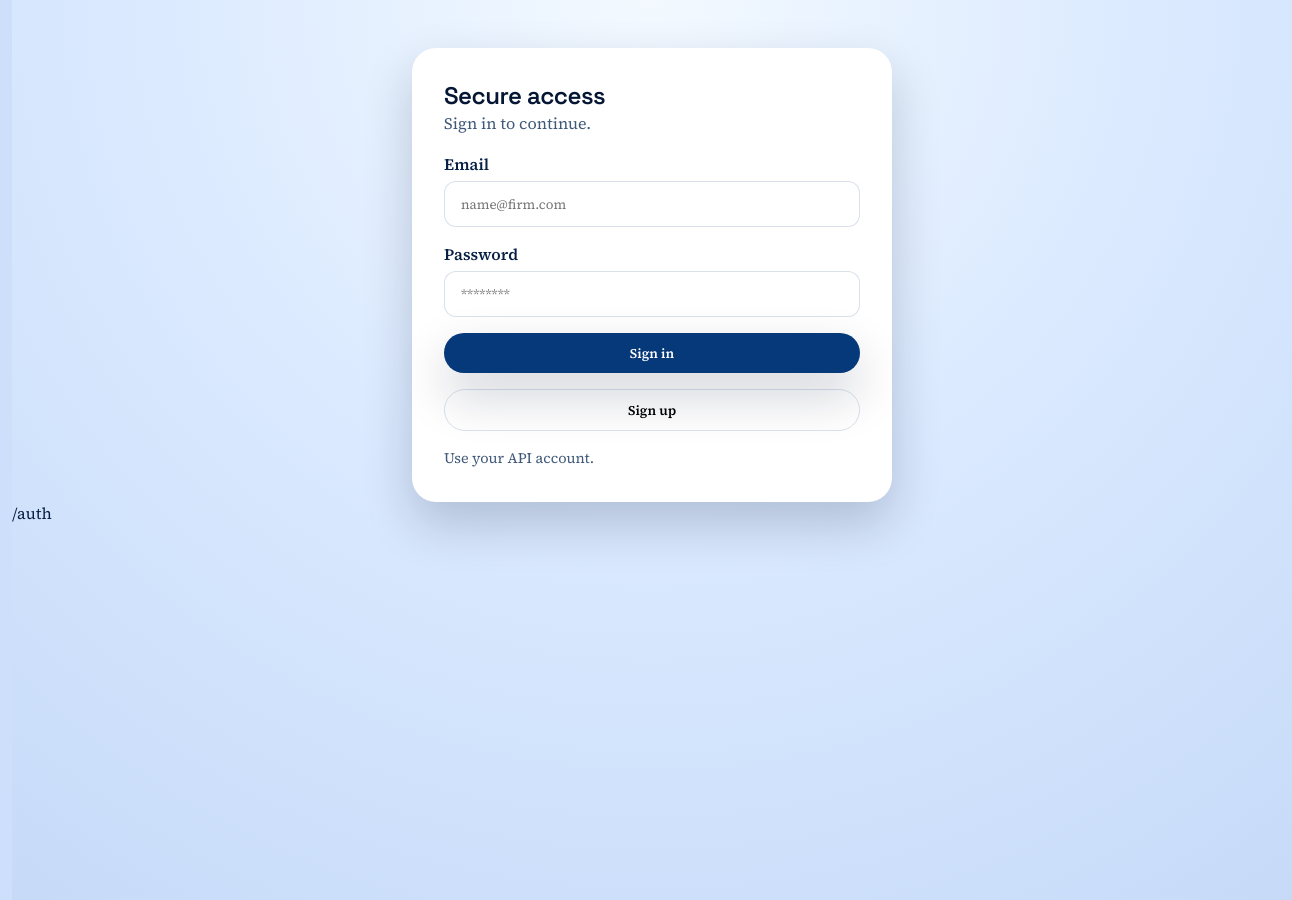
Test: Auth page › keeps registration fields hidden until the user chooses sign up
Expected: the field labelled "Phone" is not shown
Expected: the button "Continue to email verification" is not shown
Click the button "Sign up".
click(652, 410)  # box 444,389 -> 860,431
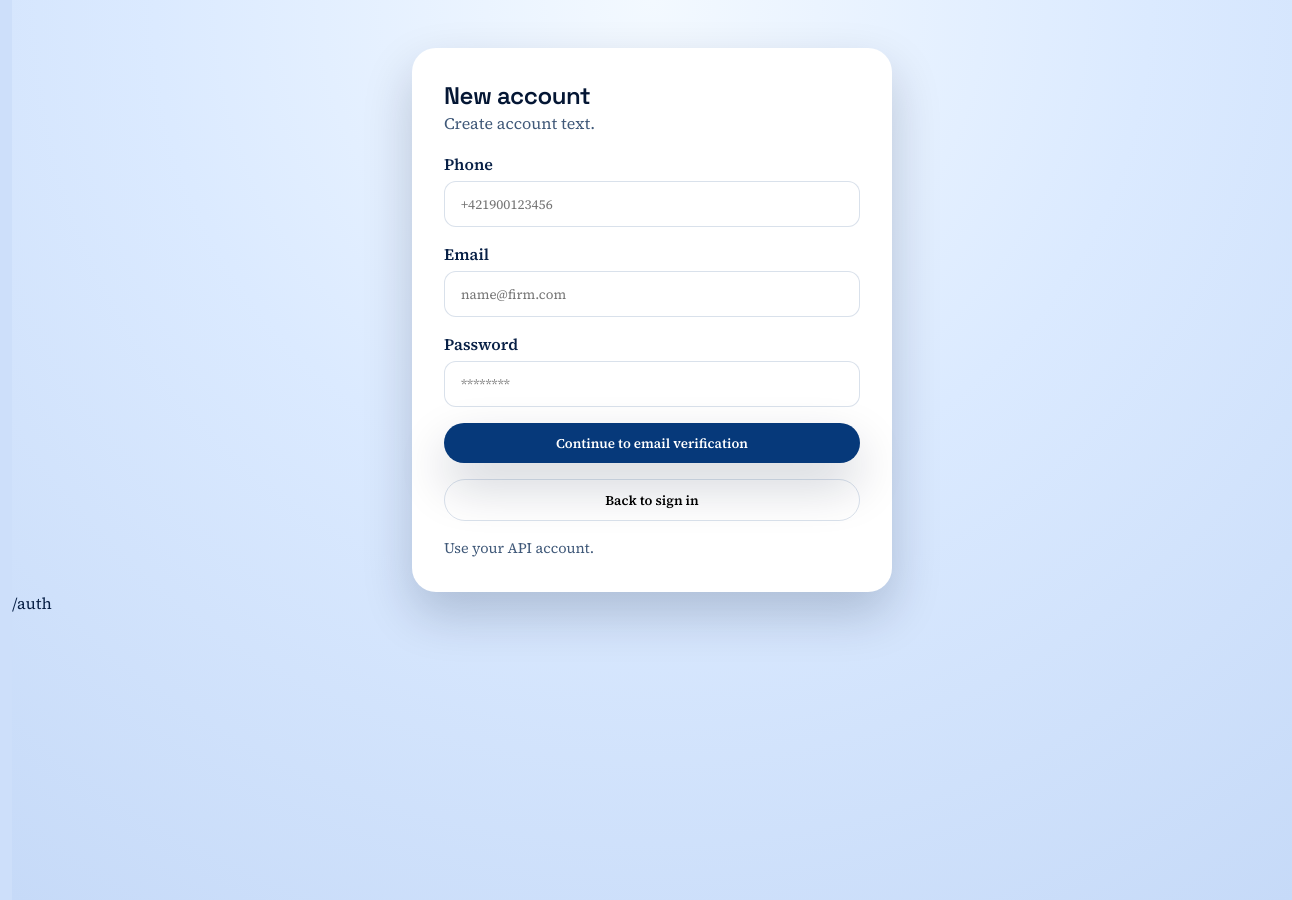
Expected: the field labelled "Phone" is shown, 444,181 -> 860,227
Now the button "Continue to email verification" is shown, box 444,422 -> 860,463
